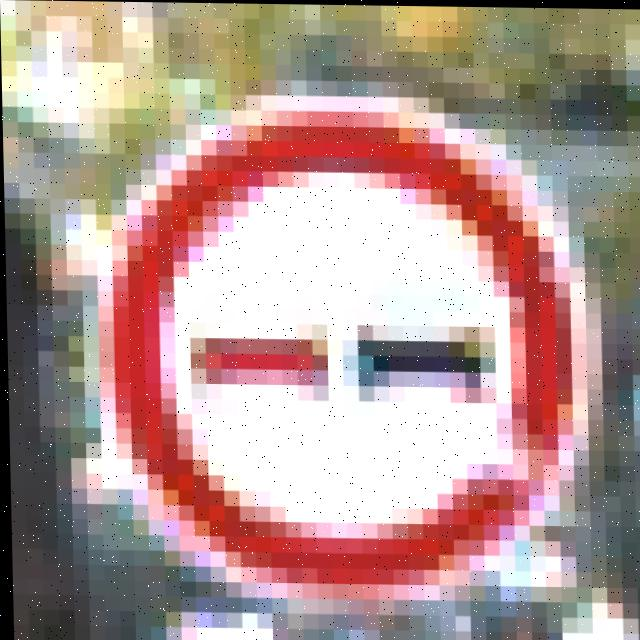no_overtaking: (98, 81, 621, 631)
